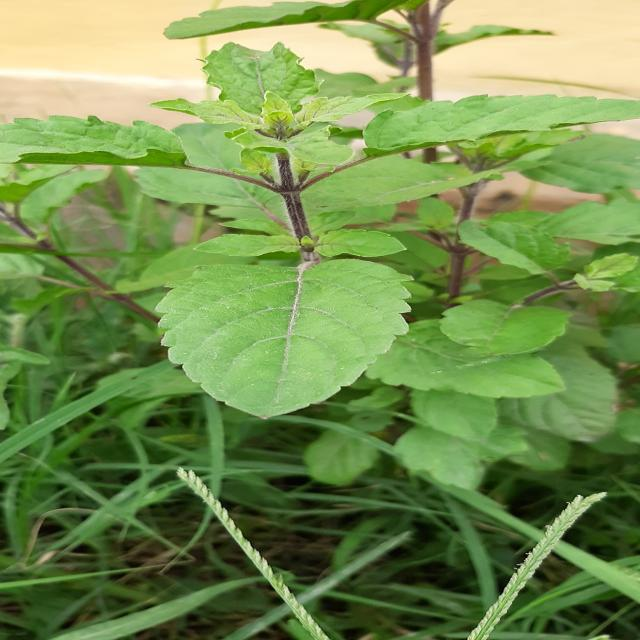tulsi: (154, 259, 412, 416)
